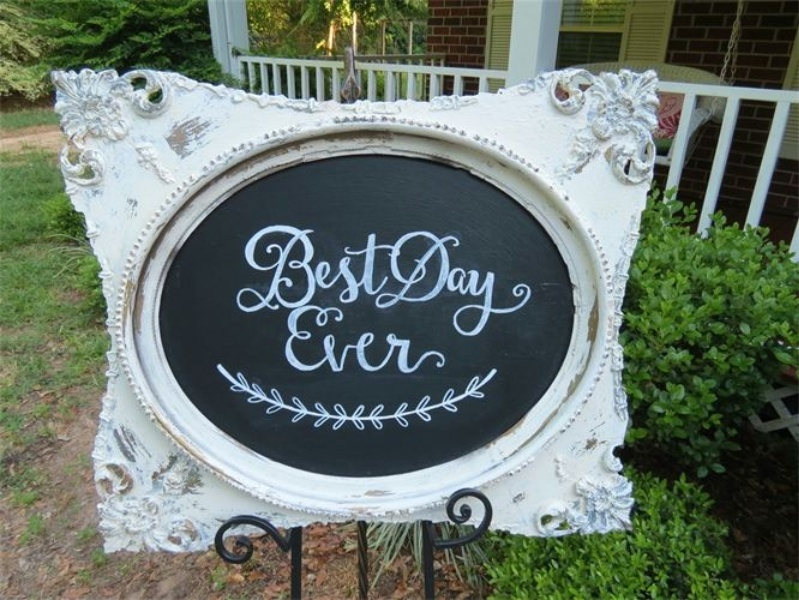text: (401, 213, 416, 347), (417, 213, 432, 347), (433, 213, 448, 347), (449, 213, 464, 347), (465, 213, 480, 347), (481, 213, 496, 347), (497, 213, 512, 347), (513, 213, 528, 347), (529, 213, 544, 347), (257, 221, 272, 315), (273, 221, 288, 315), (289, 221, 304, 315), (305, 221, 320, 315), (321, 221, 336, 315), (337, 221, 352, 315), (353, 221, 368, 315), (369, 221, 384, 315), (243, 221, 256, 315), (289, 301, 304, 380), (305, 301, 320, 380), (321, 301, 336, 380), (337, 301, 352, 380), (353, 301, 368, 380), (369, 301, 384, 380), (385, 301, 400, 380), (401, 301, 416, 380), (417, 301, 432, 380), (433, 301, 448, 380), (385, 221, 395, 315), (286, 301, 288, 380)
